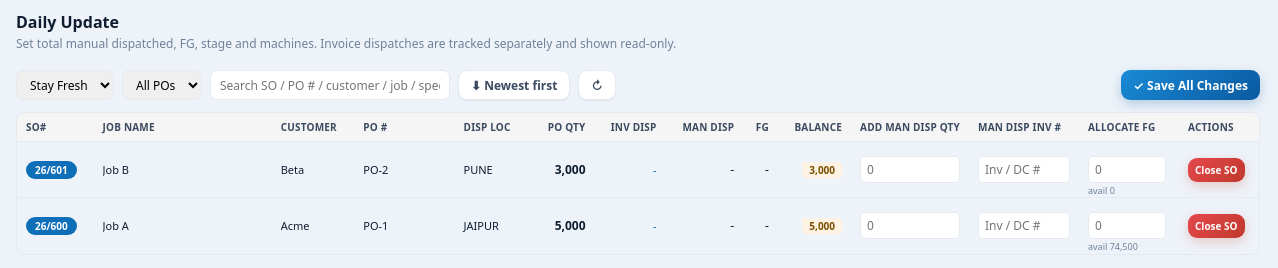
Test: Daily Update — production columns and filters › searches by PO number too
expect the text "26/600" is shown: met, box top-left (26, 217), bottom-right (77, 235)
Type "PO-1" into the field named "Search orders" at [330, 85], box top-left (210, 70), bottom-right (450, 100)
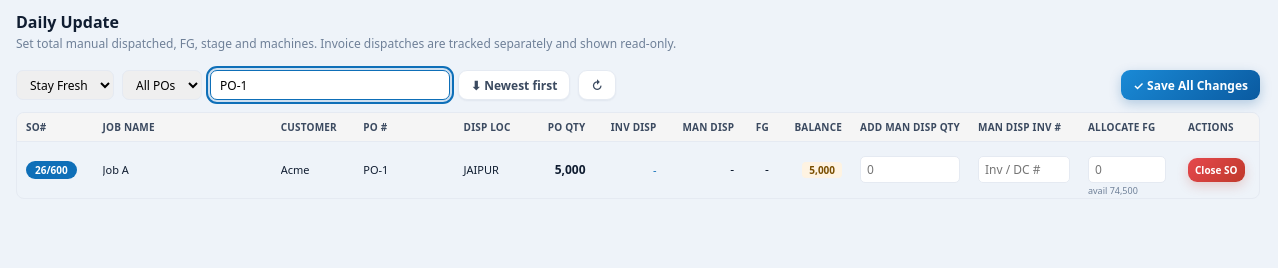
expect the text "26/600" is shown: met, box top-left (26, 161), bottom-right (77, 179)
expect the text "26/601" is gone: met
